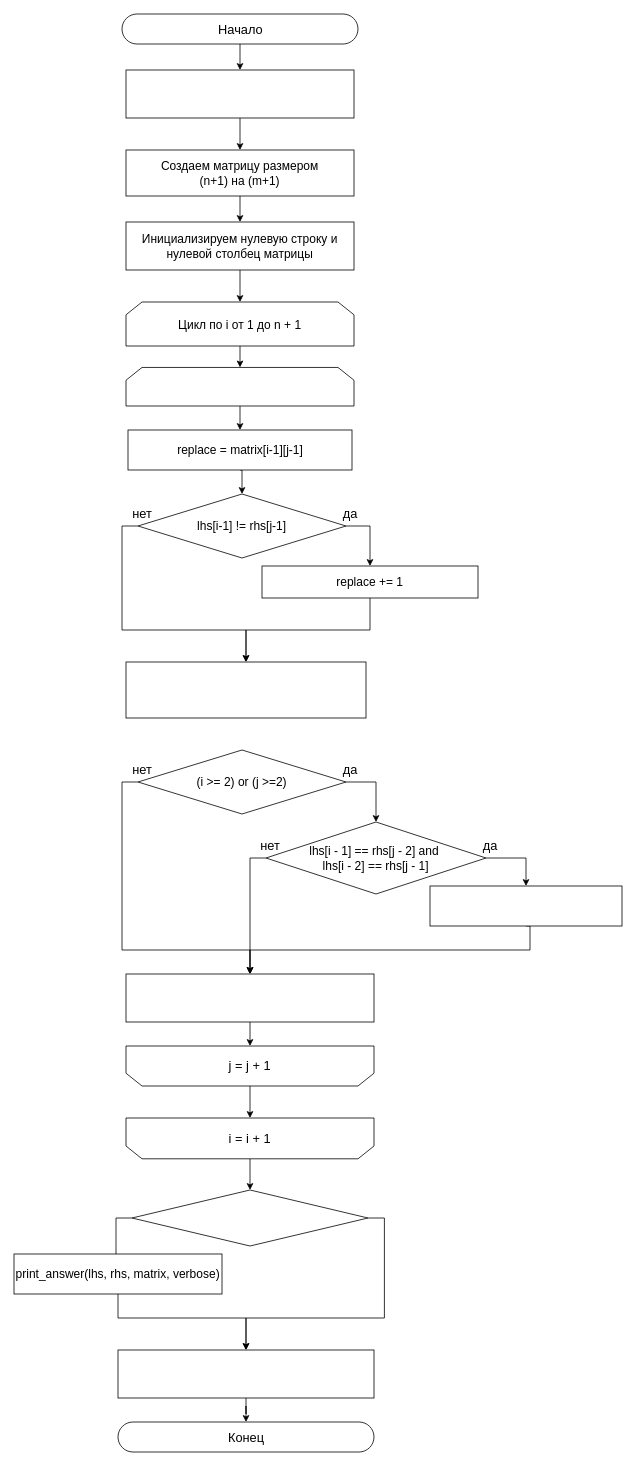
The diagram is 636 pixels wide and 1466 high, and some of its shapes have lost their labels. The shapes that lost their labels are listed below. From the top down, each one's box as (x1, y1, x2, y2) in pixels, then its label:
(125, 69, 354, 118): n = len(lhs) m = len(rhs)
(125, 367, 354, 406): Цикл по j от 1 до m + 1
(125, 661, 366, 718): insert = matrix[i-1][j] + 1, delete = matrix[i][j-1] + 1, swap = float('inf')
(429, 885, 622, 926): swap = matrix[i - 2][j - 2] + 1
(125, 973, 374, 1022): matrix[i][j] = min(insert, delete, replace, swap)
(131, 1189, 368, 1246): verbose
(117, 1349, 374, 1398): Вернуть matrix[-1][-1]
